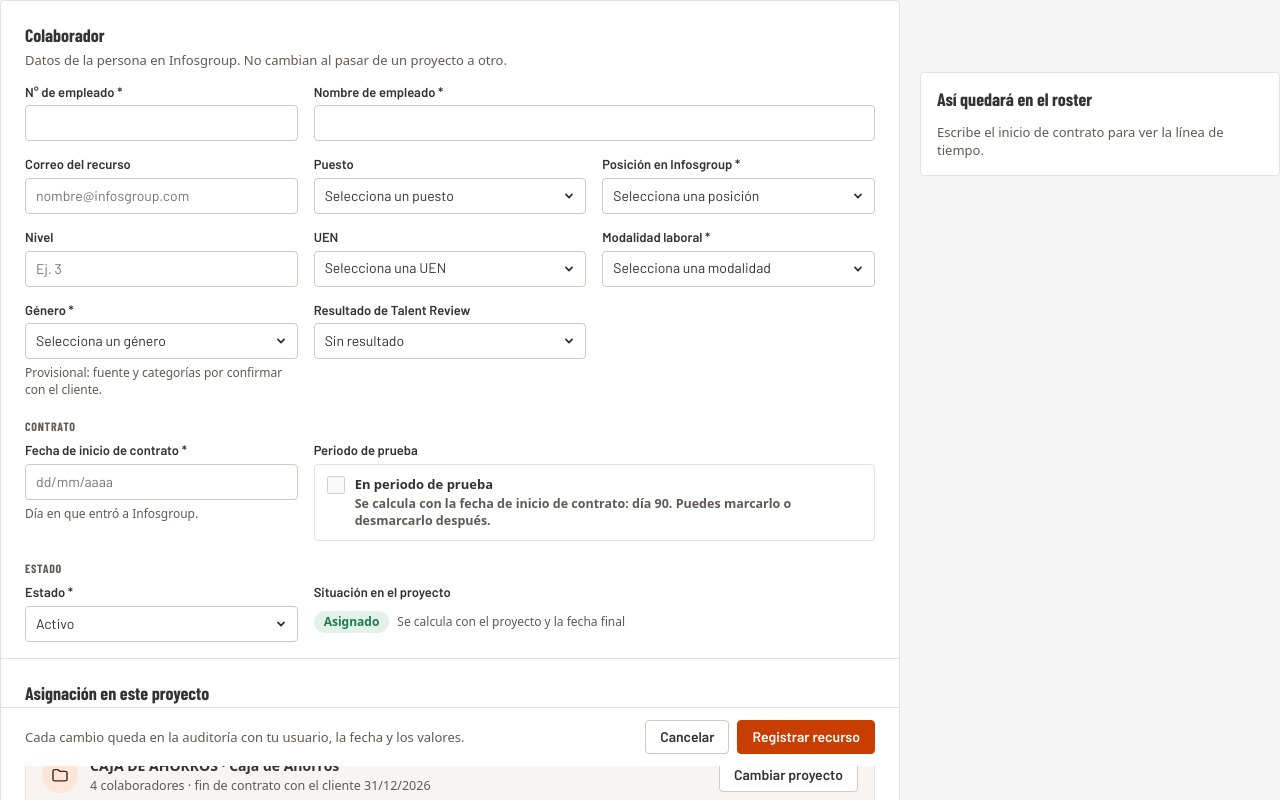
it: RegisterResourceForm › waits for the hire date to calculate the probation and the roster preview
Expected: the checkbox labelled "En periodo de prueba" is disabled, [327, 476, 345, 494]
Expected: the text "Escribe el inicio de contrato para ver la línea de tiempo." is shown, [937, 123, 1263, 159]
Type "01012020" into the field labelled "Fecha de inicio de contrato *".
click(161, 482); type("01012020")  # box [25, 464, 298, 500]
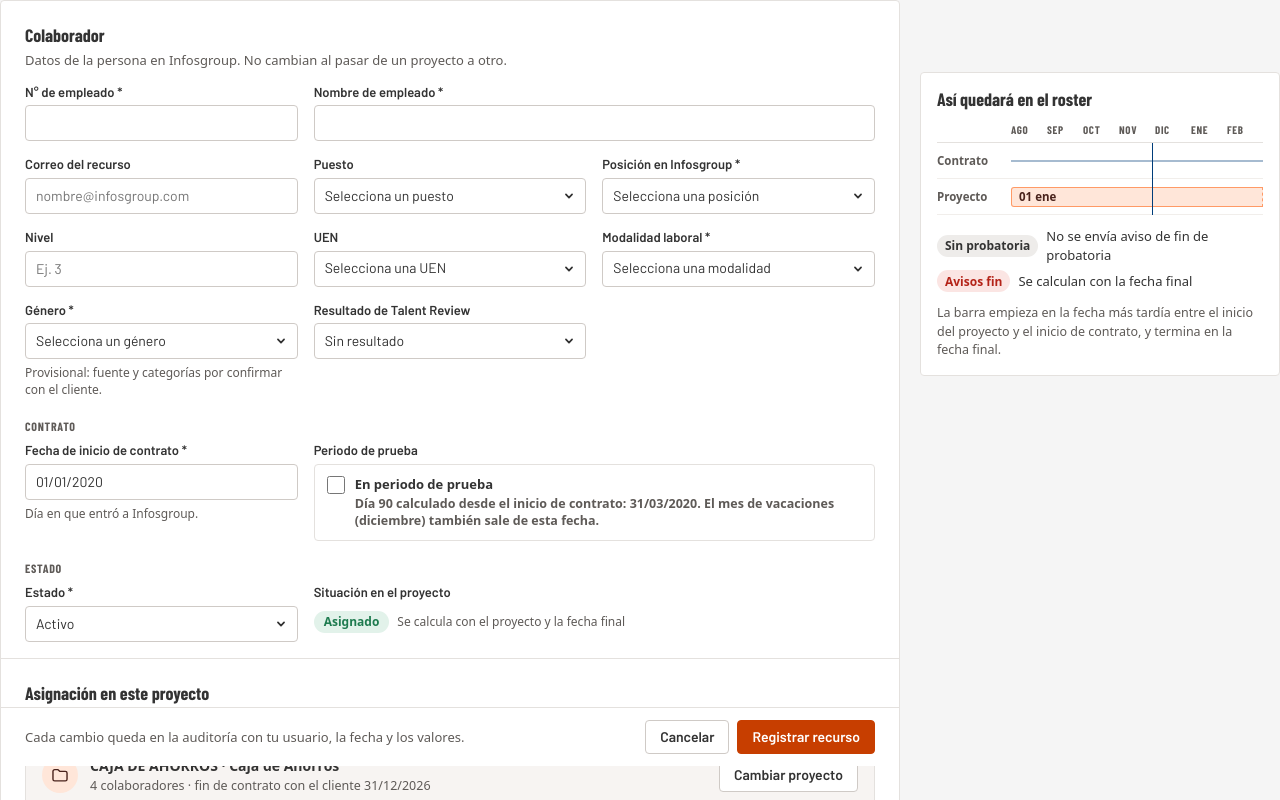
Click the checkbox labelled "En periodo de prueba".
click(336, 485)  # box [327, 476, 345, 494]
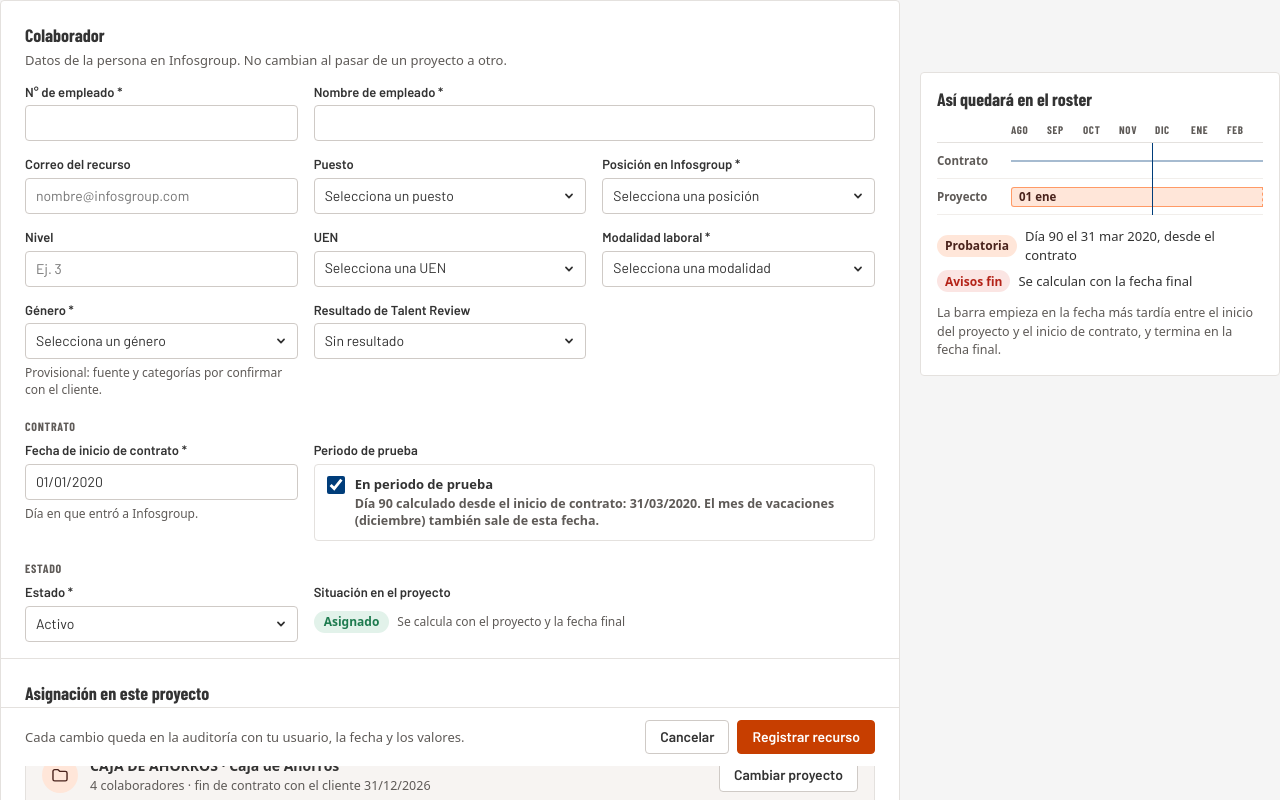
Expected: the checkbox labelled "En periodo de prueba" is checked, [327, 476, 345, 494]
Replace the text in the field labelled "Fecha de inicio de contrato *" with "02012020" at [161, 482], box [25, 464, 298, 500]
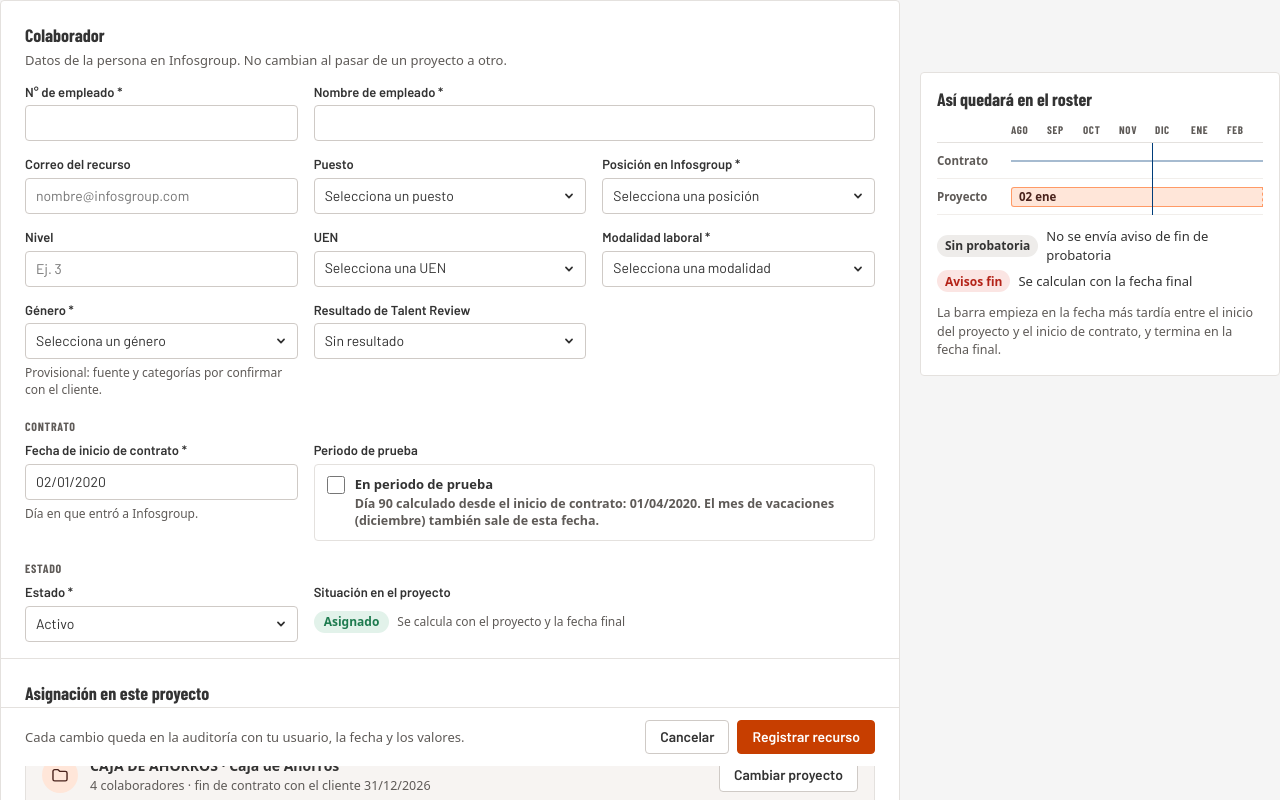
Expected: the checkbox labelled "En periodo de prueba" is not checked, [327, 476, 345, 494]
Expected: the text "Sin probatoria" is shown, [937, 235, 1038, 257]
Expected: the list item "No se envía aviso de fin de probatoria" is shown, [1046, 227, 1208, 264]
